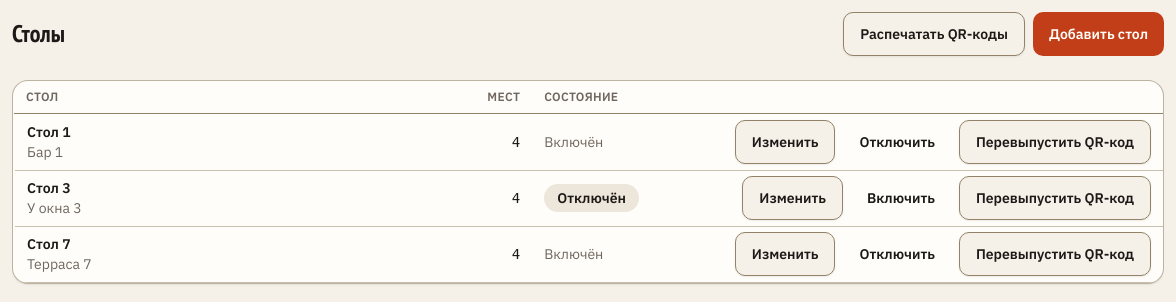
it: TablesTable › takes a table out of service in one press
What coordinates should you click on to do the following:
click the button "Отключить" in the row of "Стол 7"
I would click on:
 (897, 254)
Its box is [844,232,951,276].
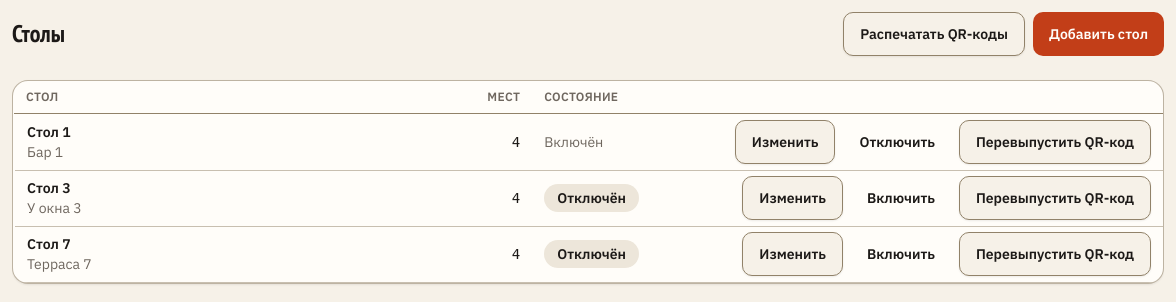
Expected: the button "Включить" in the row of "Стол 7" is shown, [851,232,951,276]
Expected: the text "Отключён" in the row of "Стол 7" is shown, [557,245,626,263]
